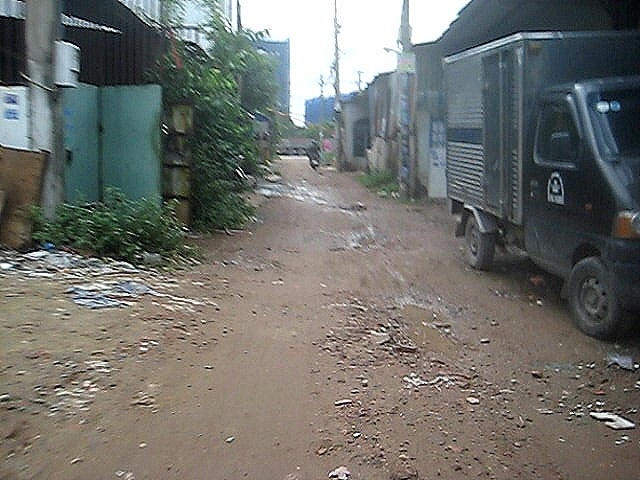hole: (364, 298, 484, 373), (327, 225, 415, 254)
